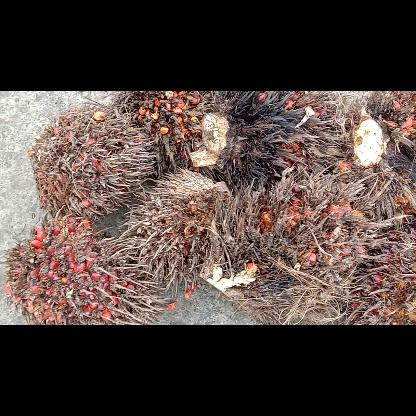Terlalu masak: (198, 166, 390, 324), (0, 213, 167, 325), (189, 90, 341, 192), (32, 104, 154, 220), (120, 168, 232, 294), (114, 90, 224, 178), (344, 91, 414, 215), (350, 223, 416, 324)
